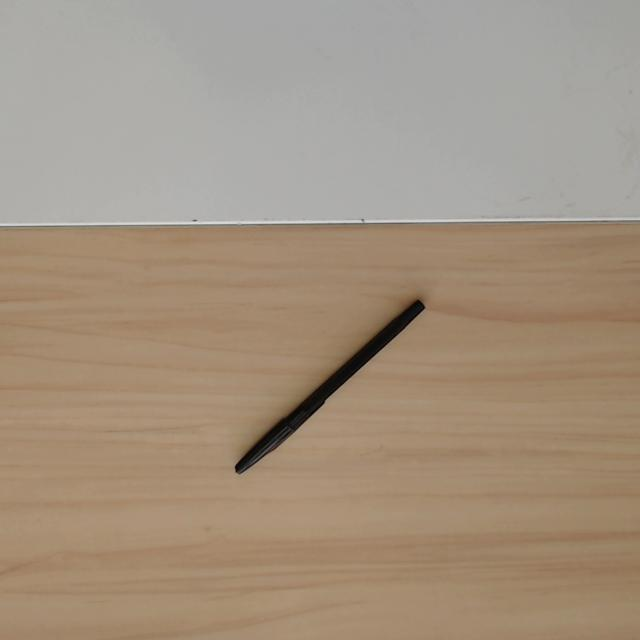Pulpen-Hitam: (230, 296, 428, 480)
